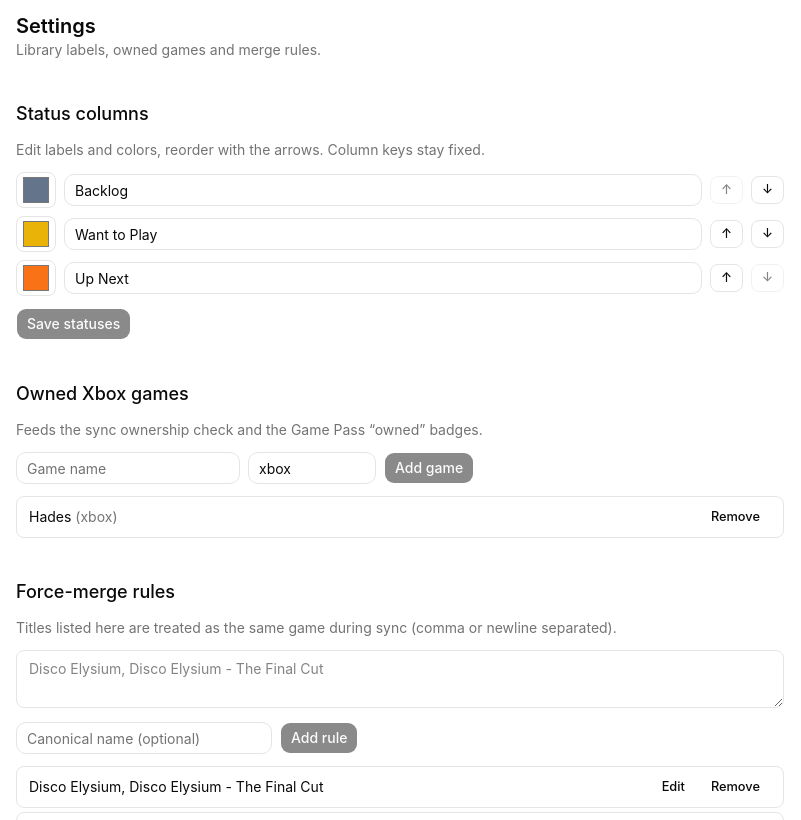
Test: SettingsPage › saves an edited status label via PUT with the full list
Replace the text in the field named "Label for backlog" with "To Do": [383, 190] box [64,174,702,206]
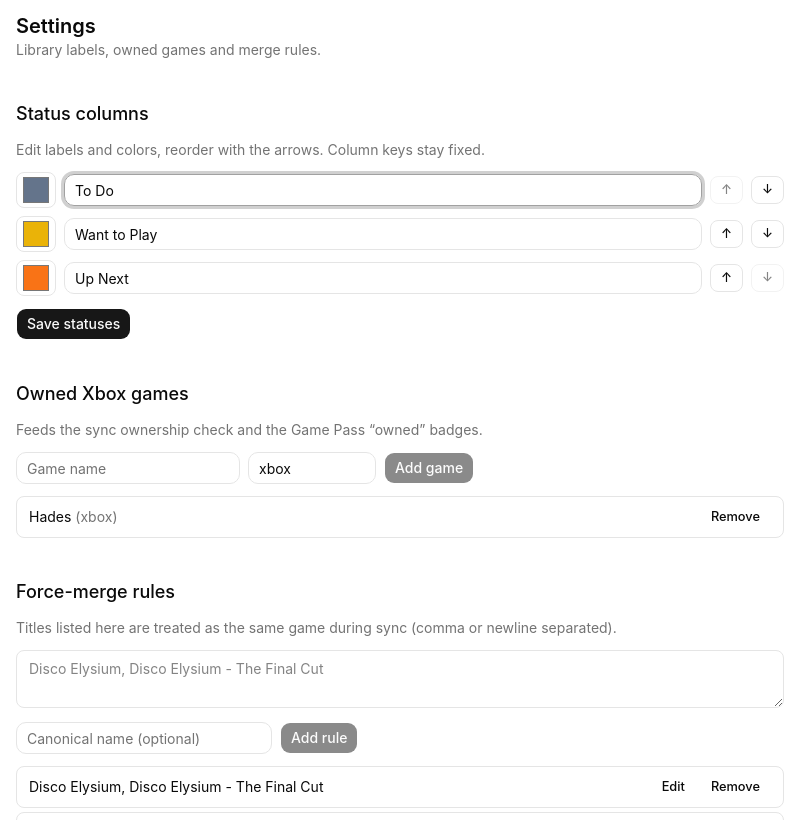
Result: the button "Save statuses" is enabled
Click the button "Save statuses": [74, 324] box [16,308,131,340]
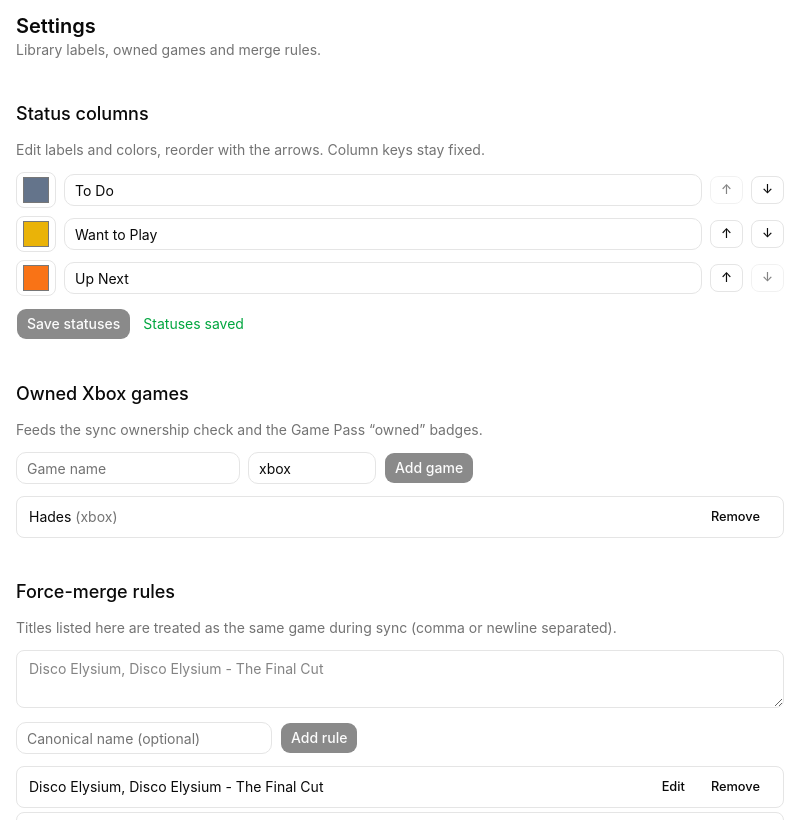
Result: the text "Statuses saved" is shown at [143,314,244,334]
